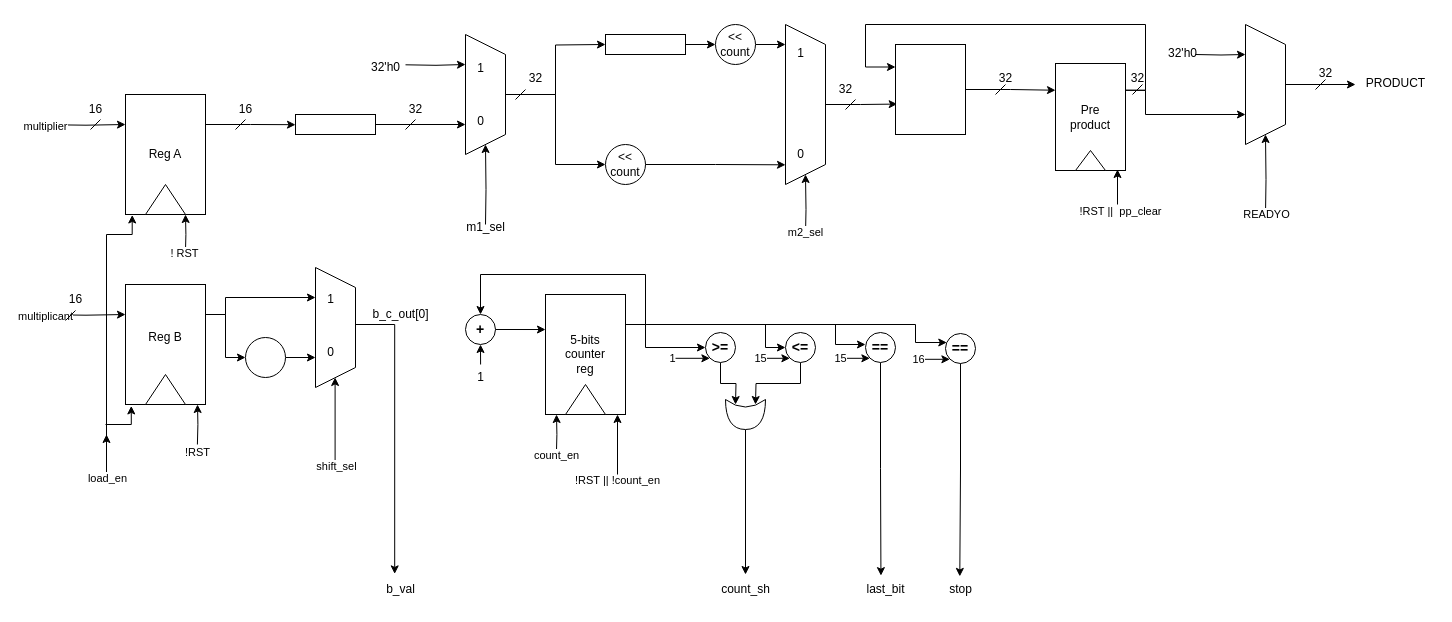
Image size: 1452x622. Some labels were removed from this diagram. Here are the shapes that lost their labels. From the top down, the centre of each, then its label:
(x=645, y=44): 2 complement
(x=930, y=89): 32-bits Ripple carry Adder
(x=335, y=124): sign extension
(x=265, y=357): >> count
